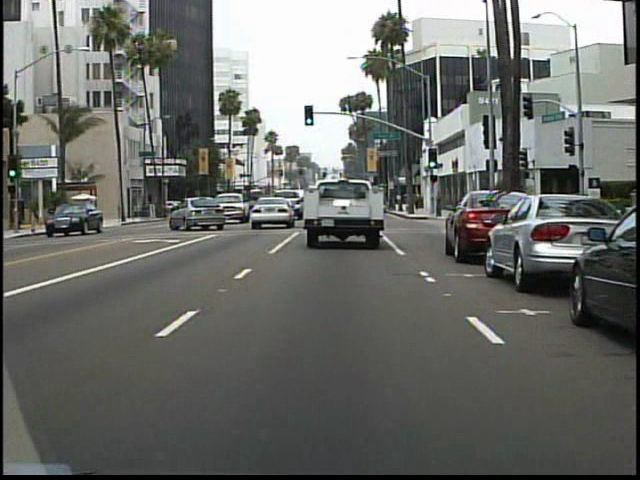person: (437, 188, 445, 219)
